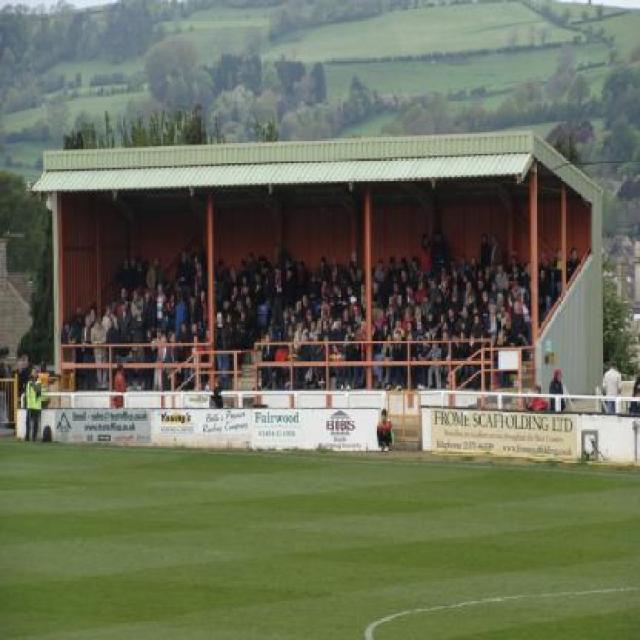Person: (58, 246, 578, 392), (24, 364, 41, 439), (376, 408, 396, 452), (603, 360, 619, 412), (548, 372, 566, 410), (526, 384, 548, 410), (627, 376, 639, 416)
